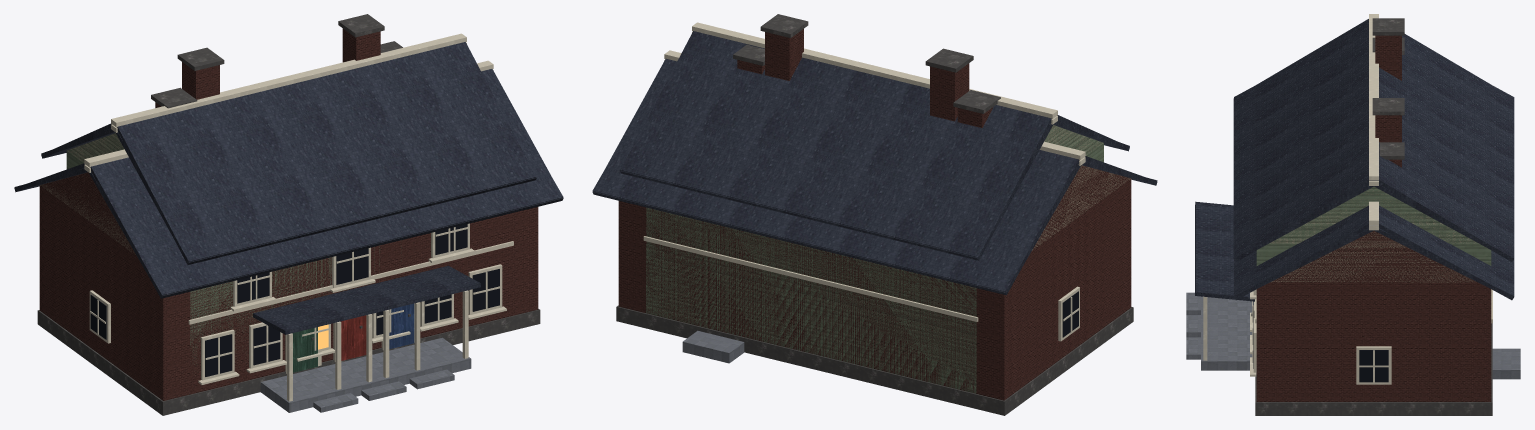
File: house_kit.glb
3 renders of one model, left to right at view 1: azimuth 30°, elevation 25°; view 2: azimuth 150°, elevation 25°; view 3: azimuth 270°, elevation 25°, orthographic. The views are drawn at different scales.
Parts seen in each view (by area): view 1: kit_house_b, kit_house_c, kit_house_a, kit_house_d; view 2: kit_house_c, kit_house_a, kit_house_b, kit_house_d; view 3: kit_house_c, kit_house_b, kit_house_a, kit_house_d.
Boxes of the visible parts, <box> form: kit_house_b: <box>41,33,536,389</box>; kit_house_c: <box>14,41,563,415</box>; kit_house_a: <box>41,14,536,412</box>; kit_house_d: <box>14,60,563,298</box>; kit_house_c: <box>592,44,1157,415</box>; kit_house_a: <box>620,14,1129,408</box>; kit_house_b: <box>620,22,1129,260</box>; kit_house_d: <box>592,50,1157,295</box>; kit_house_c: <box>1186,142,1520,415</box>; kit_house_b: <box>1186,14,1514,376</box>; kit_house_a: <box>1186,85,1520,390</box>; kit_house_d: <box>1234,37,1514,300</box>.
Size of the model in its own units: 15.1 by 10.02 by 11.4.
12 materials, 10 textured.
